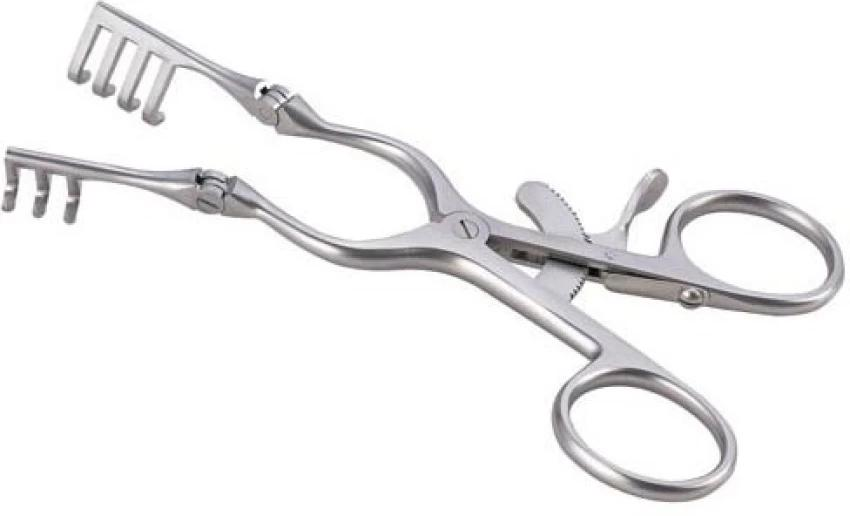Self Retractor: (0, 2, 845, 504)
